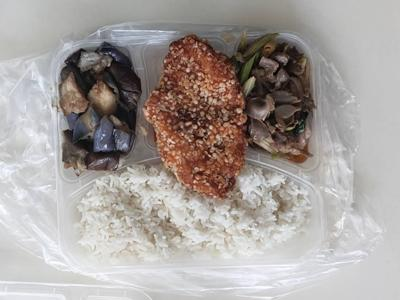rice: (66, 165, 316, 266)
sqz: (48, 44, 144, 170)
